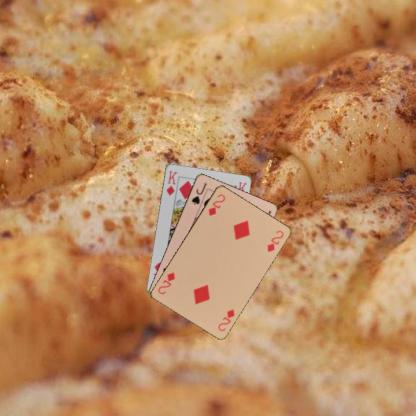2d: (206, 191, 226, 217), (216, 306, 236, 332)
Js: (189, 180, 208, 206)
Kd: (164, 168, 178, 197)
